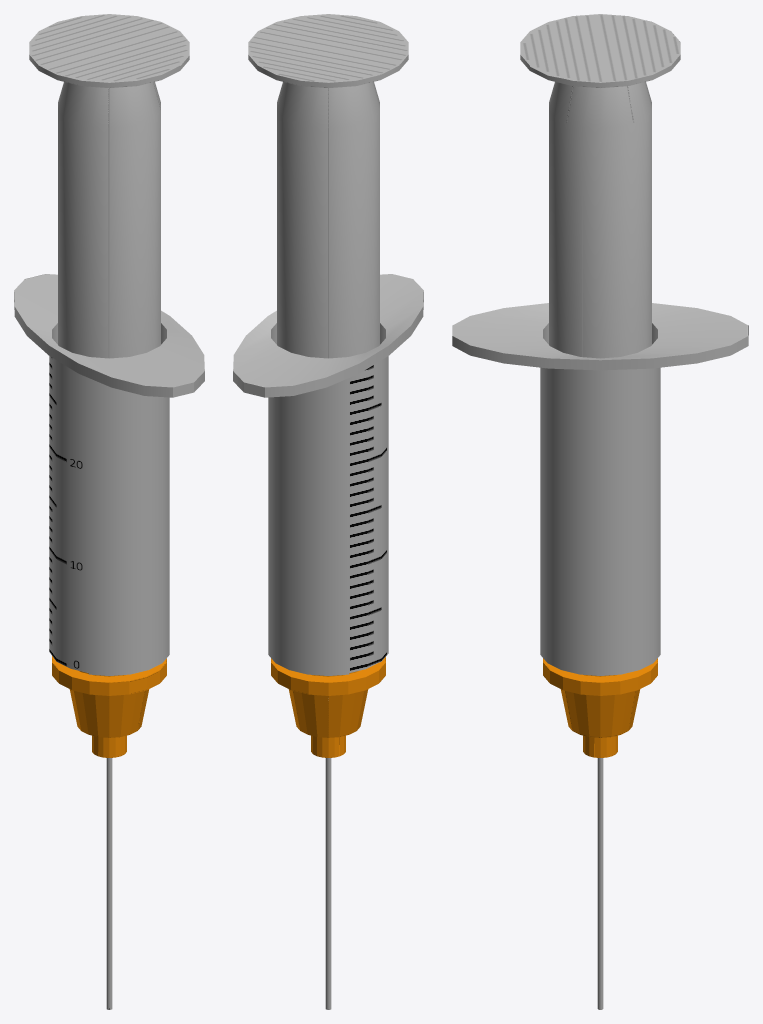
Rendered from syringe.FBX.
The picture shows the model from 3 angles, left to right: view 1: azimuth 30°, elevation 25°; view 2: azimuth 150°, elevation 25°; view 3: azimuth 270°, elevation 25°; orthographic projection.
Visible parts, largest first — view 1: Container, Piston, Needle; view 2: Container, Piston, Needle; view 3: Container, Piston, Needle.
Part boxes in pixels (bbox=[...]): Container: bbox=[14, 274, 204, 675]; Piston: bbox=[29, 14, 189, 358]; Needle: bbox=[52, 656, 166, 1009]; Container: bbox=[233, 274, 423, 675]; Piston: bbox=[248, 14, 408, 358]; Needle: bbox=[271, 657, 385, 1009]; Container: bbox=[452, 303, 748, 675]; Piston: bbox=[520, 14, 680, 358]; Needle: bbox=[543, 658, 657, 1009].
Bounding box in the file's own units: 0.5596 × 3.64 × 1.02.
3 materials, 3 textured.
